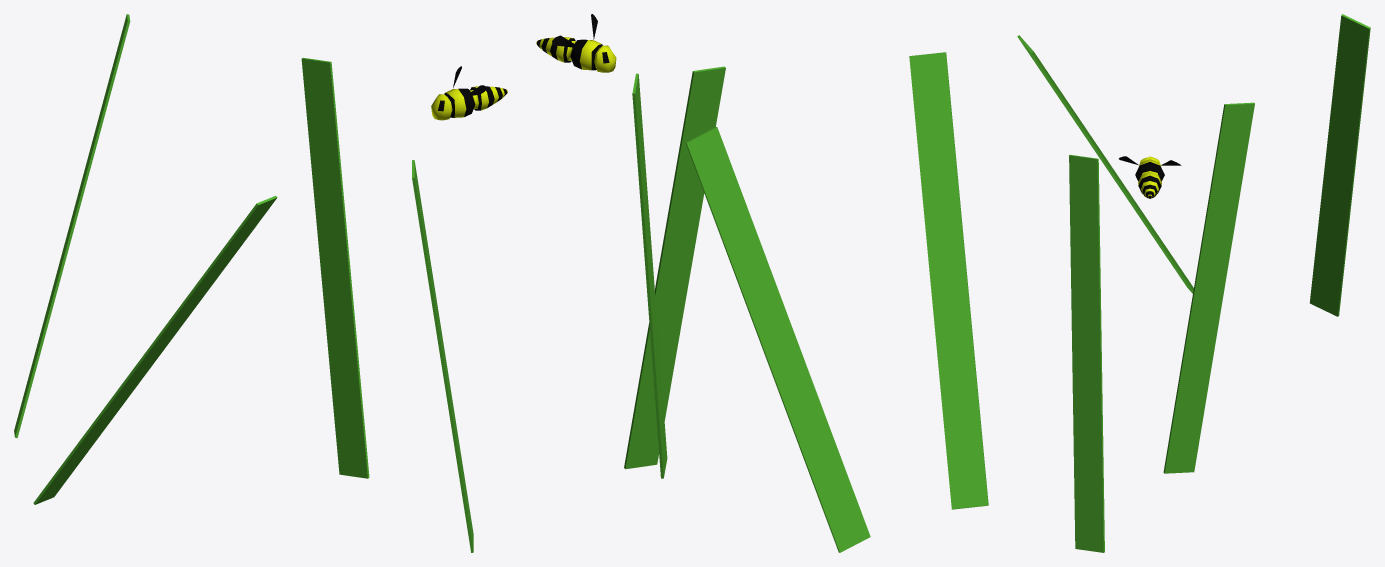
File: bee.gltf
3 views of the same model, side by side, from view 1: azimuth 30°, elevation 25°; view 2: azimuth 150°, elevation 25°; view 3: azimuth 270°, elevation 25° (orthographic). The views are drawn at different scales.
Parts seen in each view (by area): view 1: Cube.001, Cube.003, Cube.004, Cube.002, Cube; view 2: Cube.003, Cube.004, Cube.002, Cube.001, Cube; view 3: Cube.002, Cube.001, Cube.004, Cube.003, Cube.
Boxes of the visible parts, box(x1,y1,x2,y2) form: Cube.001: box(301, 57, 369, 478); Cube.003: box(33, 195, 277, 504); Cube.004: box(14, 14, 130, 438); Cube.002: box(412, 160, 473, 552); Cube: box(431, 66, 507, 120); Cube.003: box(909, 52, 988, 509); Cube.004: box(685, 127, 870, 552); Cube.002: box(624, 66, 725, 469); Cube.001: box(632, 73, 667, 478); Cube: box(536, 14, 616, 72); Cube.002: box(1069, 154, 1104, 552); Cube.001: box(1163, 102, 1254, 473); Cube.004: box(1309, 14, 1370, 316); Cube.003: box(1017, 35, 1193, 293); Cube: box(1119, 156, 1181, 198).
Size of the model in its own units: 16.02 by 16.11 by 11.64.
